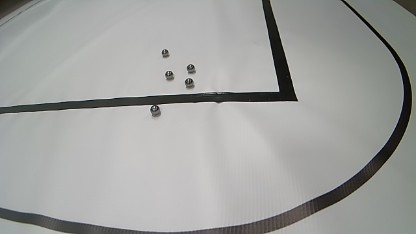ironball: (150, 105, 160, 116), (184, 78, 194, 88), (186, 64, 195, 73), (165, 70, 174, 79), (161, 49, 169, 57)
